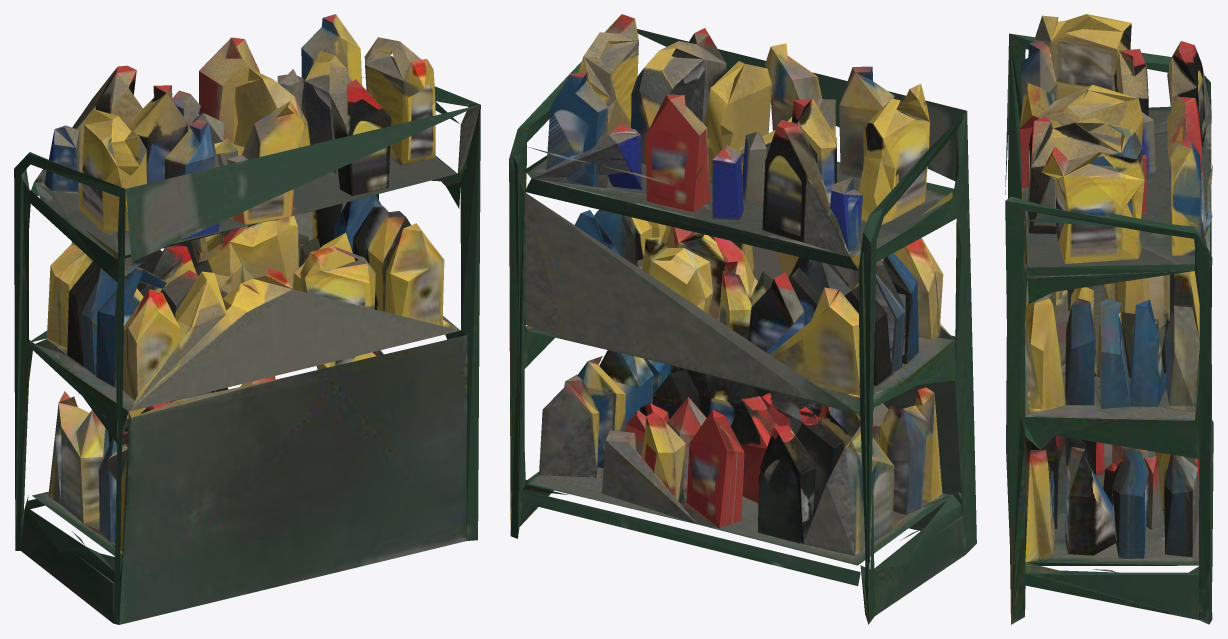
File: oilrack.glb
The picture shows the model from 3 angles, left to right: view 1: azimuth 30°, elevation 25°; view 2: azimuth 150°, elevation 25°; view 3: azimuth 270°, elevation 25°; orthographic projection. The views are drawn at different scales.
Size of the model in its own units: 1.52 by 1.9 by 0.7822.
1 material, 1 textured.
